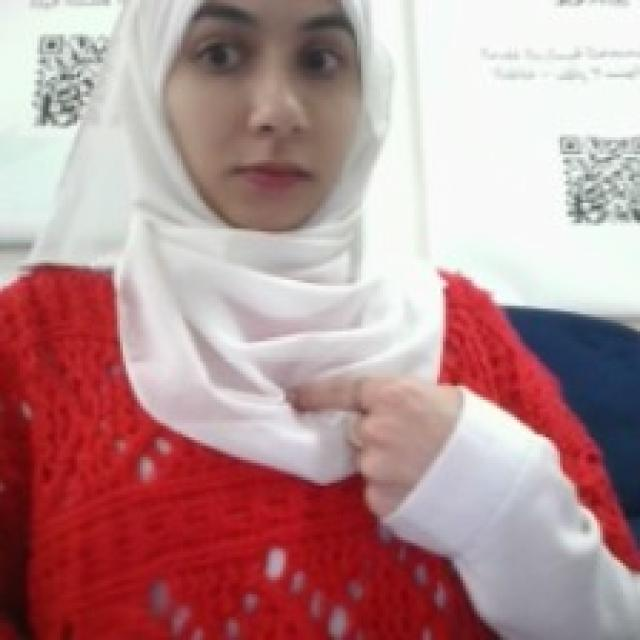me: (276, 368, 478, 534)
